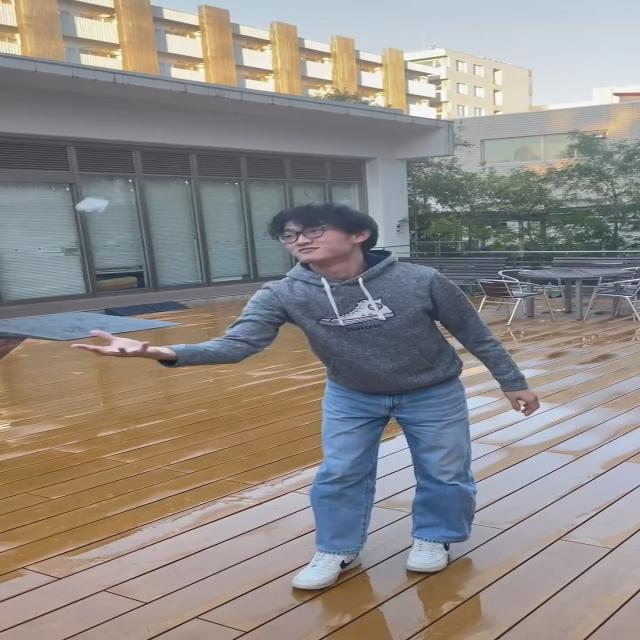paper: (75, 196, 109, 214)
